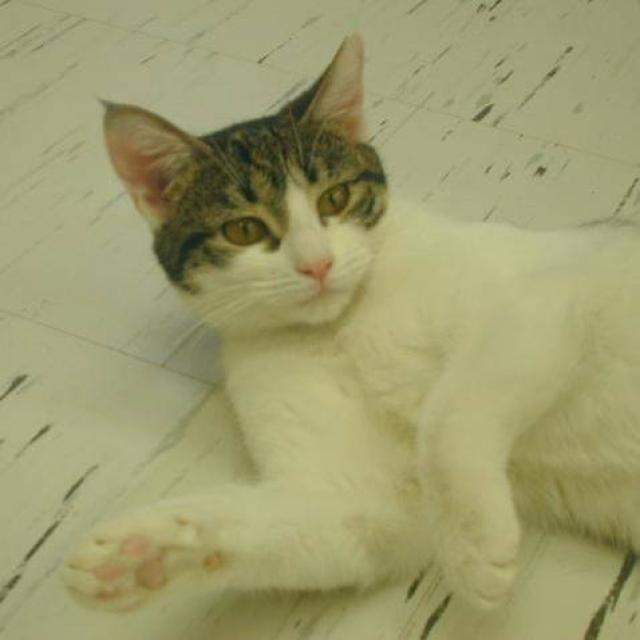cat: (60, 30, 639, 616)
